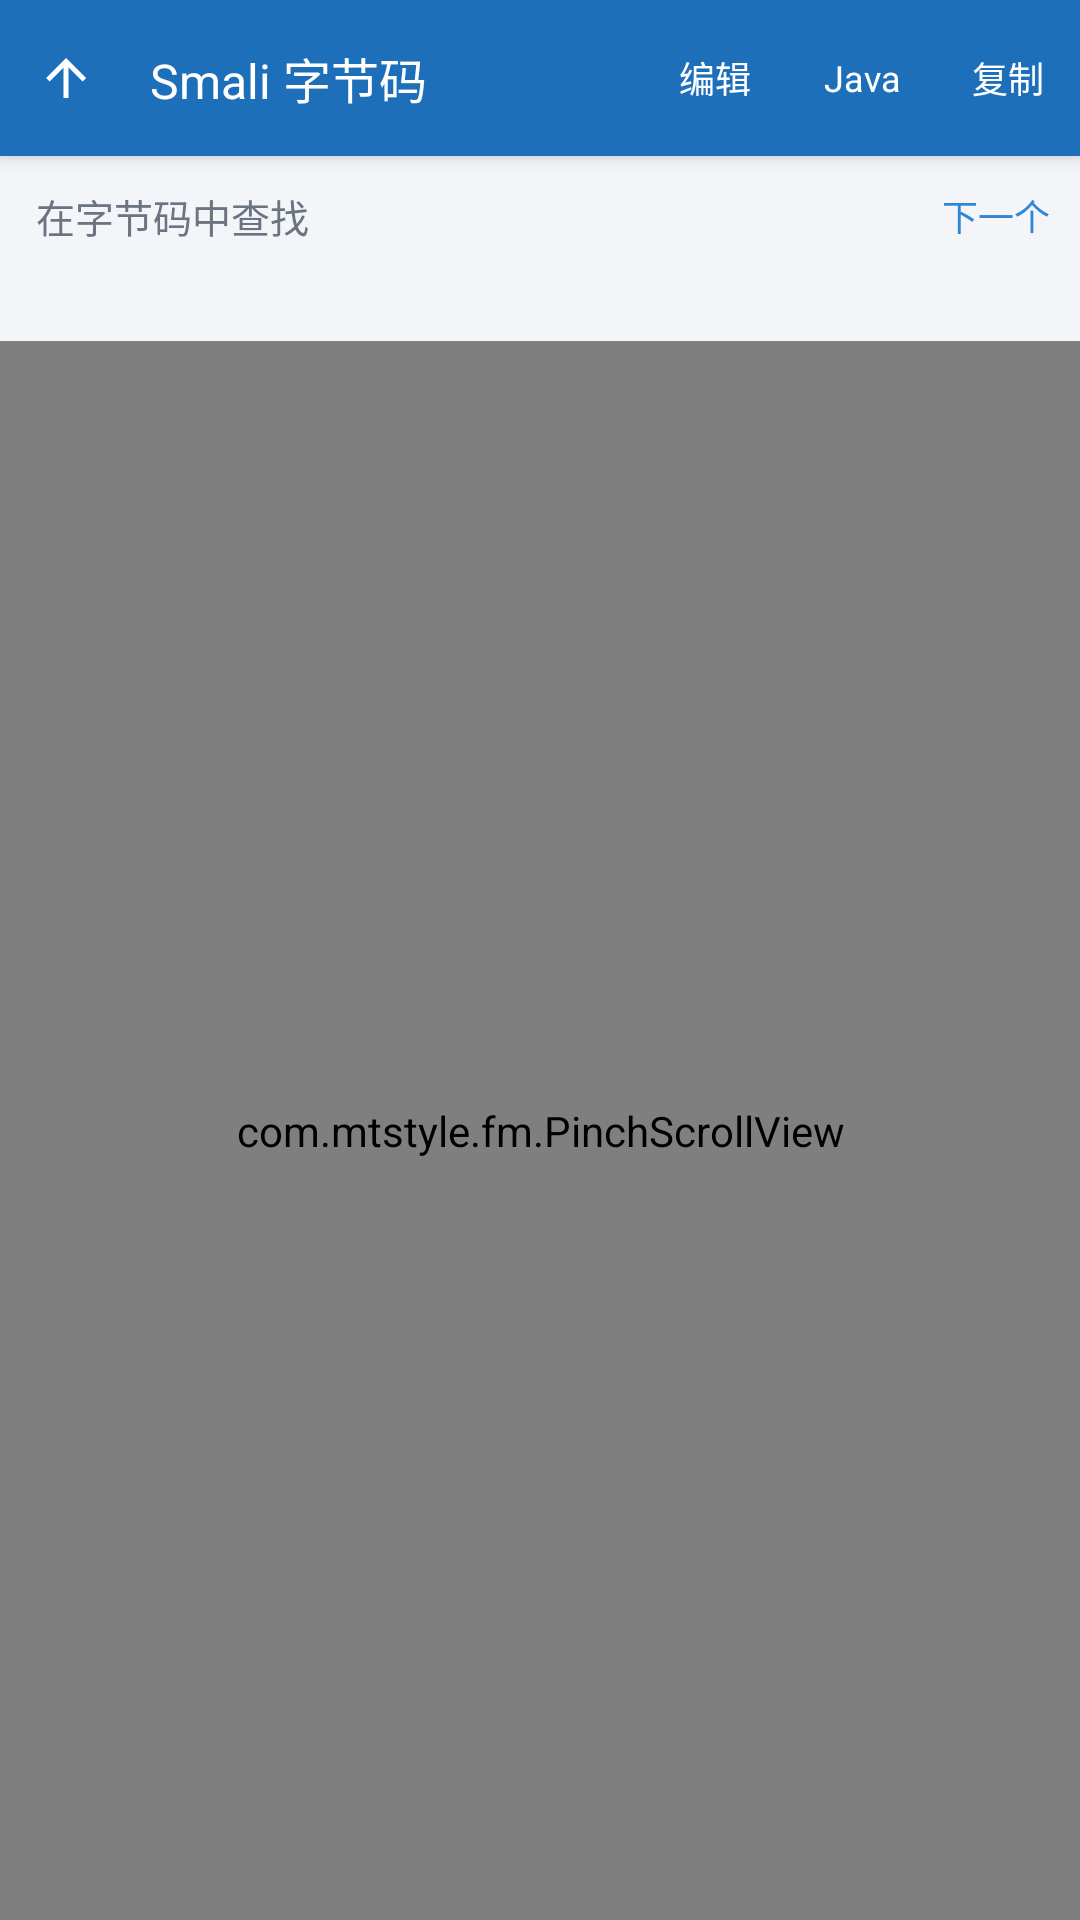

Icons on this 1080w x 1920h Android screen, each with its box as (x1, y1, x2, y2):
返回: (46, 58, 86, 98)
